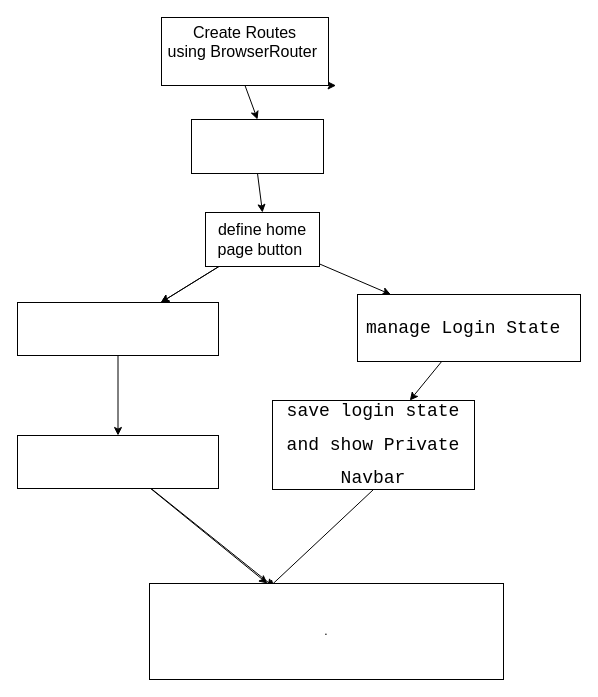
This 598x697 diagram has some shape labels left out. The shapes that lost their labels are listed below. From the top down, each one's centre as x and y in pixels, then its label:
At pixel 257 146: "add Home page".
At pixel 117 329: "connect Register API".
At pixel 117 461: "create Redux store and slice".
